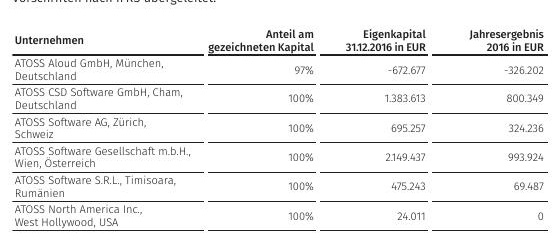table: (0, 0, 559, 247)
